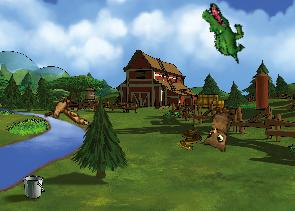crocodile: (189, 0, 258, 65)
eagle: (42, 92, 91, 131)
owl: (202, 105, 230, 152)
